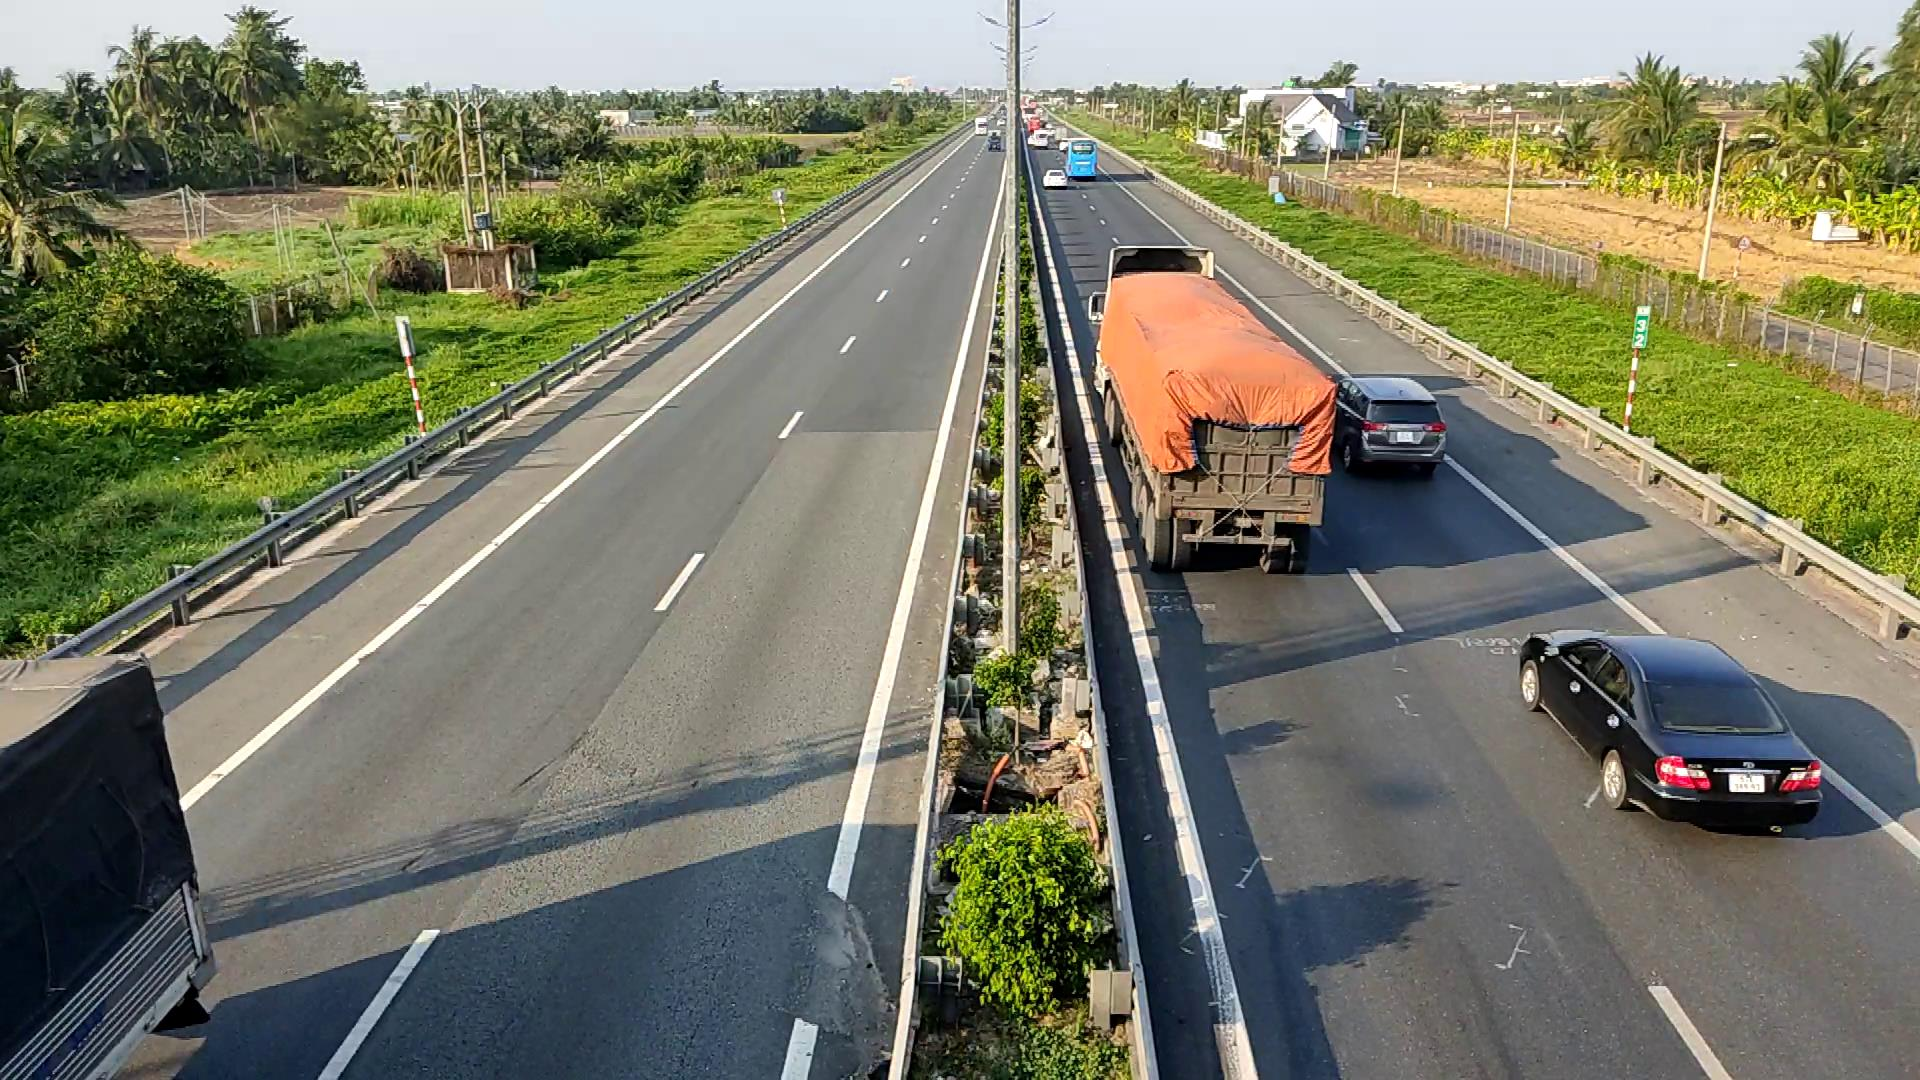car: (1516, 626, 1824, 831), (1332, 375, 1449, 476)
truck: (1089, 243, 1337, 574)
